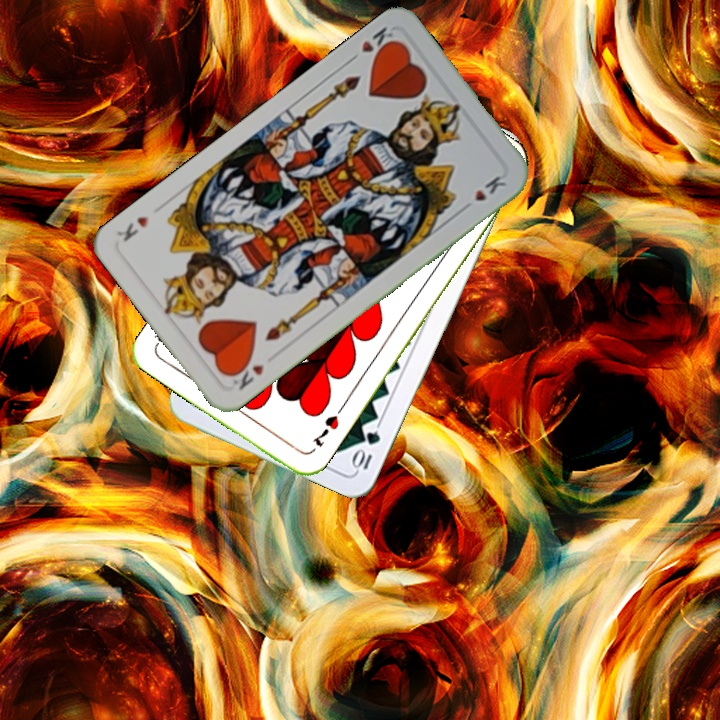G10: (349, 427, 383, 473)
H7: (308, 411, 342, 450)
HK: (344, 22, 400, 65), (226, 355, 267, 393)
